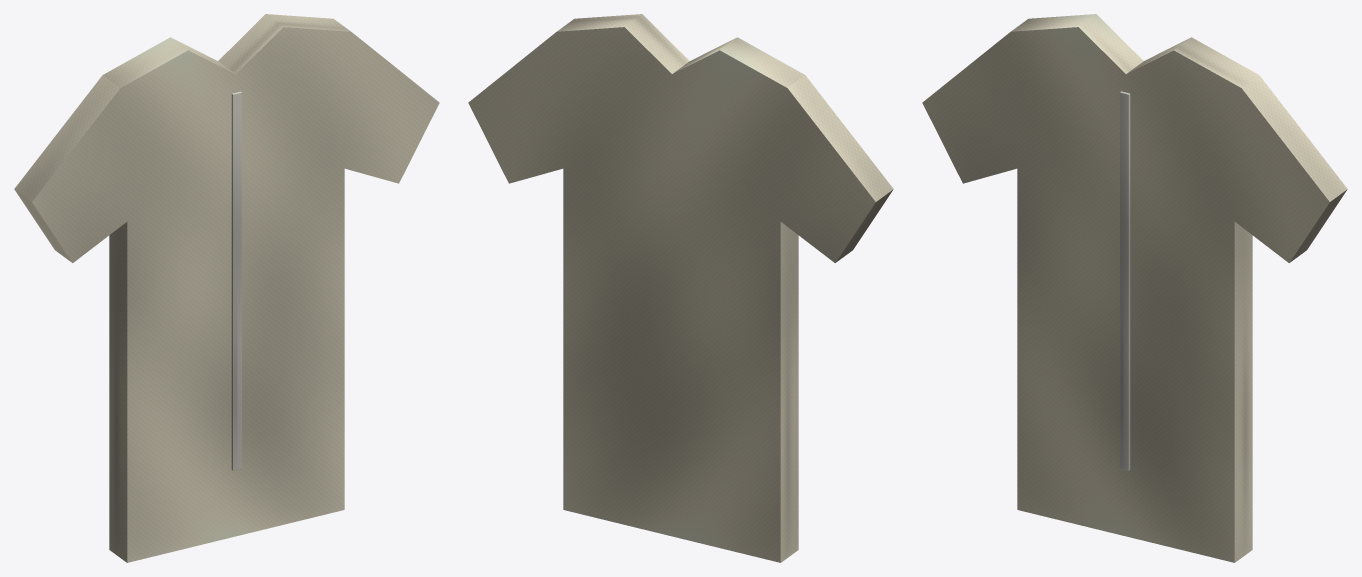
The model's file is Hold_Shirt.fbx.
3 views of the same model, side by side, from view 1: azimuth 30°, elevation 25°; view 2: azimuth 150°, elevation 25°; view 3: azimuth 330°, elevation 25° (orthographic).
Visible parts, largest first — view 1: Hold_Shirt; view 2: Hold_Shirt; view 3: Hold_Shirt.
Part boxes in pixels (left/top/right/bottom): Hold_Shirt: left=14, top=14, right=439, bottom=562; Hold_Shirt: left=468, top=14, right=893, bottom=562; Hold_Shirt: left=922, top=14, right=1347, bottom=562.
Size of the model in its own units: 0.6 by 0.7 by 0.05.
1 material, 1 textured.
